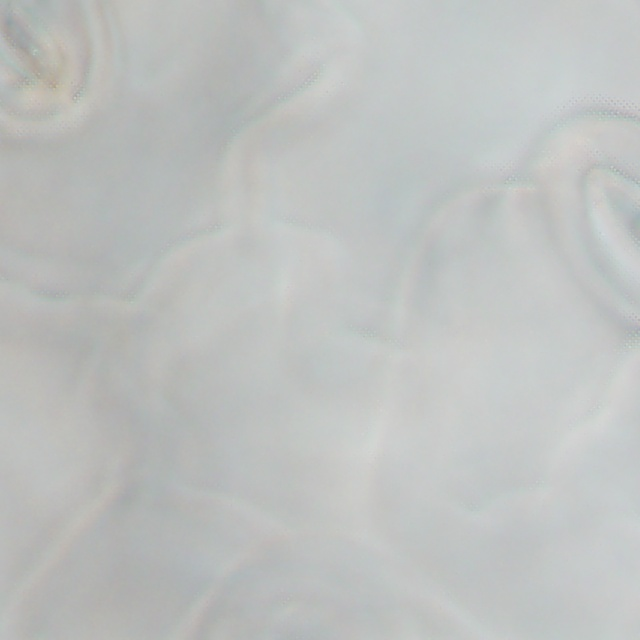center: (537, 202, 628, 221)
stomata-huw1: (526, 111, 639, 312), (1, 1, 105, 123)
